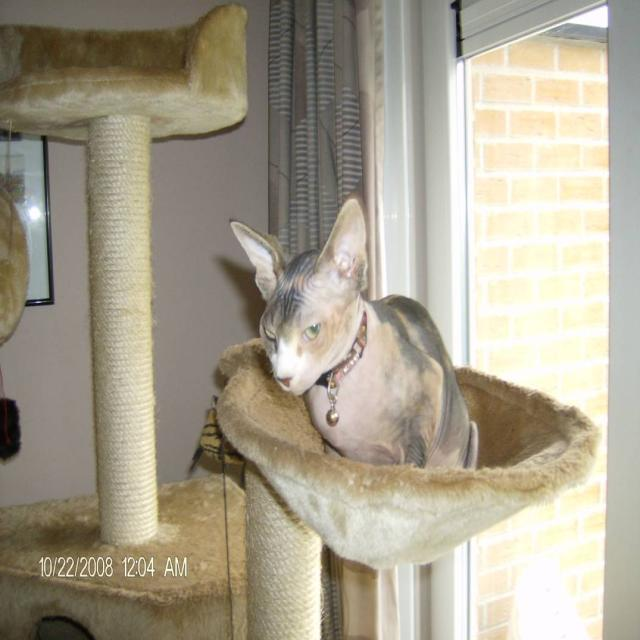Sphynx: (224, 191, 370, 404)
